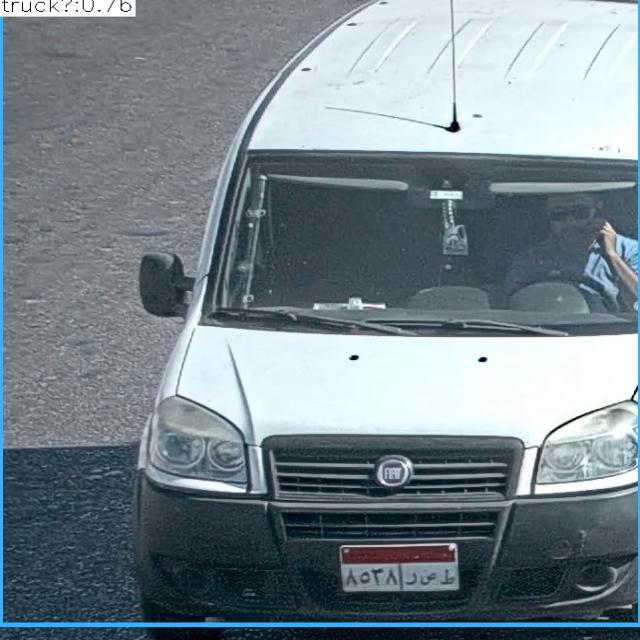windshield: (208, 143, 640, 330)
